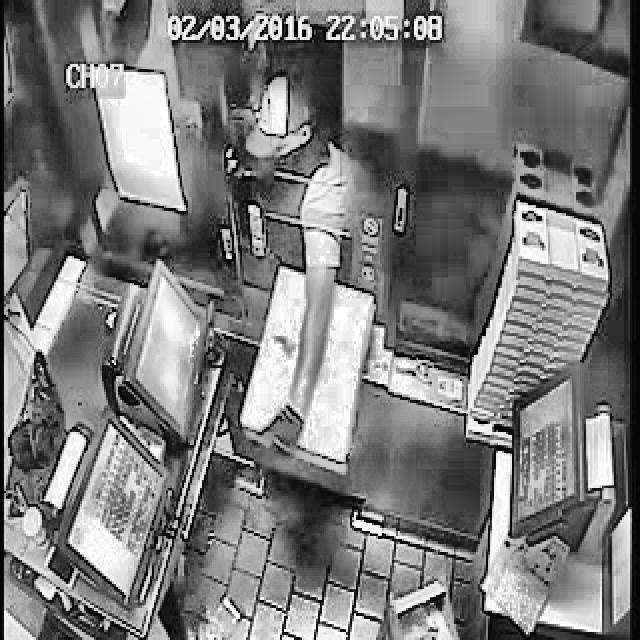burglary: (226, 70, 388, 478)
